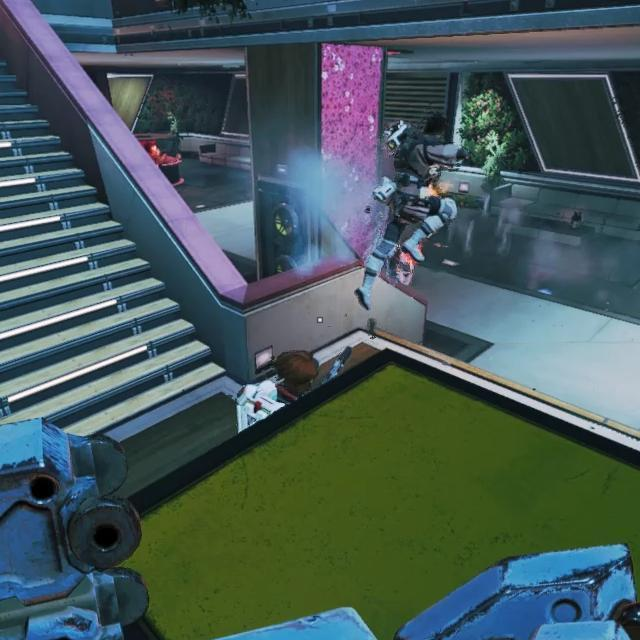avatar: (352, 109, 461, 314)
